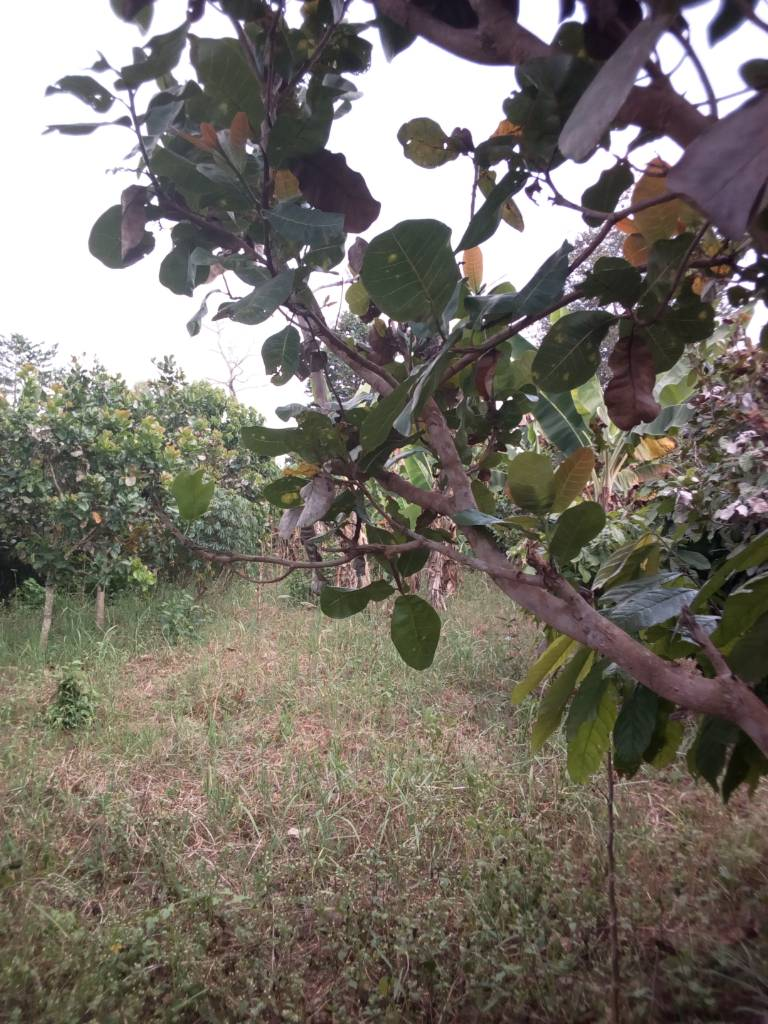Dessèchement des bourgeons: (692, 213, 768, 308)
